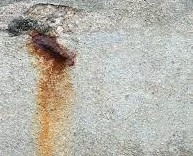Corrosion: (26, 33, 76, 156)
Exposed reinforcement: (39, 38, 70, 60)
Spalling: (1, 2, 85, 37)
